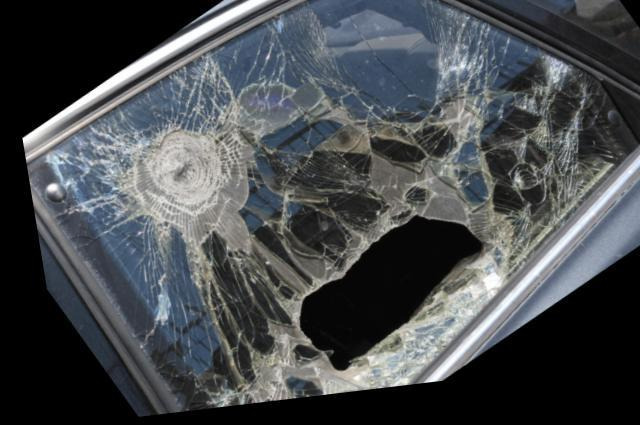glass shatter: (21, 0, 633, 415)
